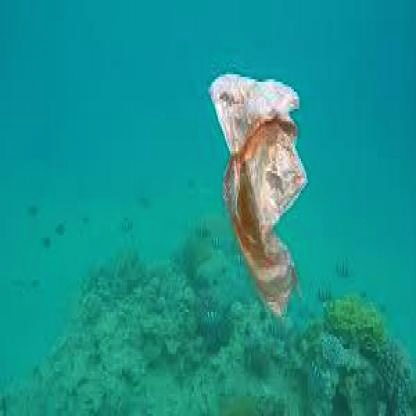pbag: (207, 72, 309, 322)
